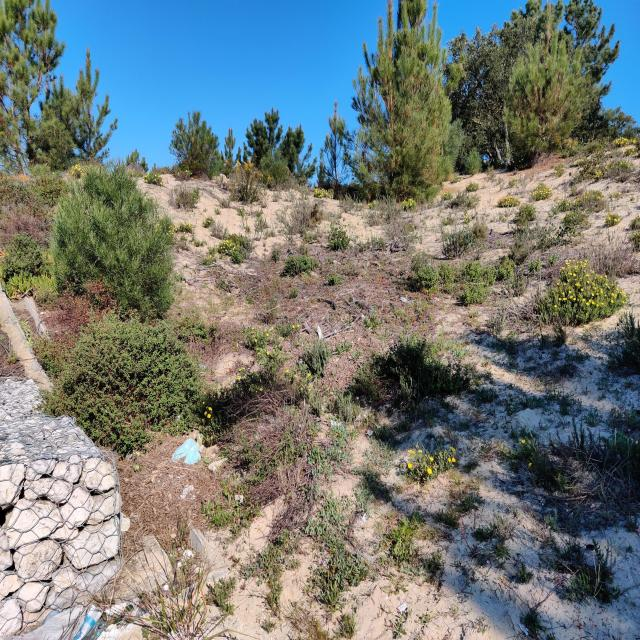litter: (170, 432, 205, 468)
